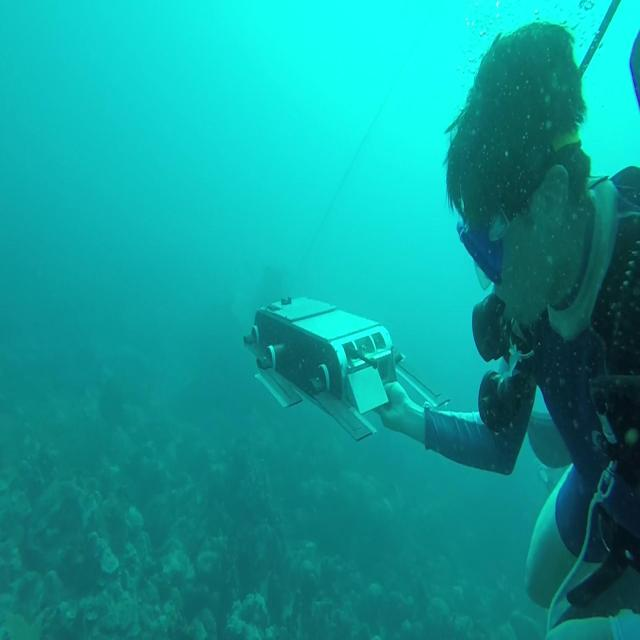human: (368, 19, 639, 636)
